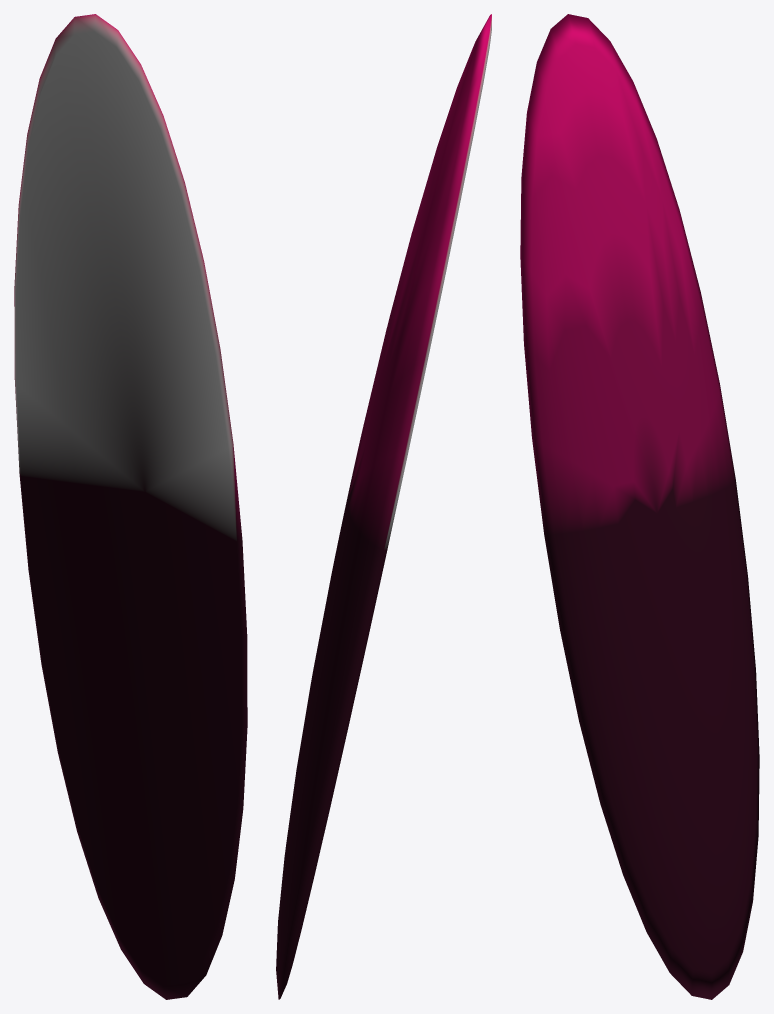
File: brain dherbetestvertexcolor.fbx
3 renders of one model, left to right at view 1: azimuth 30°, elevation 25°; view 2: azimuth 150°, elevation 25°; view 3: azimuth 270°, elevation 25°, orthographic. The views are drawn at different scales.
Visible parts, largest first — view 1: Sphere.670; view 2: Sphere.670; view 3: Sphere.670.
Part boxes in pixels (x1,y1,x2,y2): Sphere.670: (14, 14, 247, 999); Sphere.670: (276, 14, 491, 999); Sphere.670: (520, 14, 759, 999).
Bounding box in the file's own units: 4.77 × 25.75 × 6.06.
